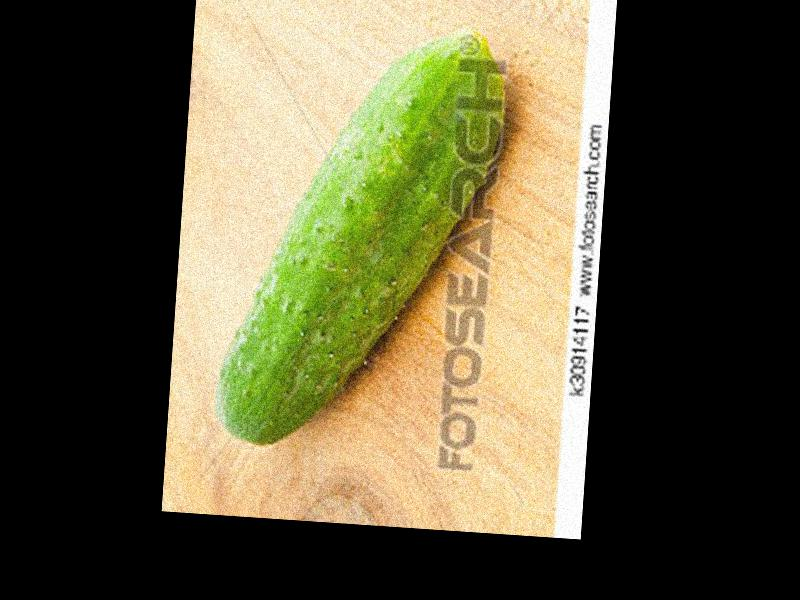Cucumber: (212, 14, 513, 460)
